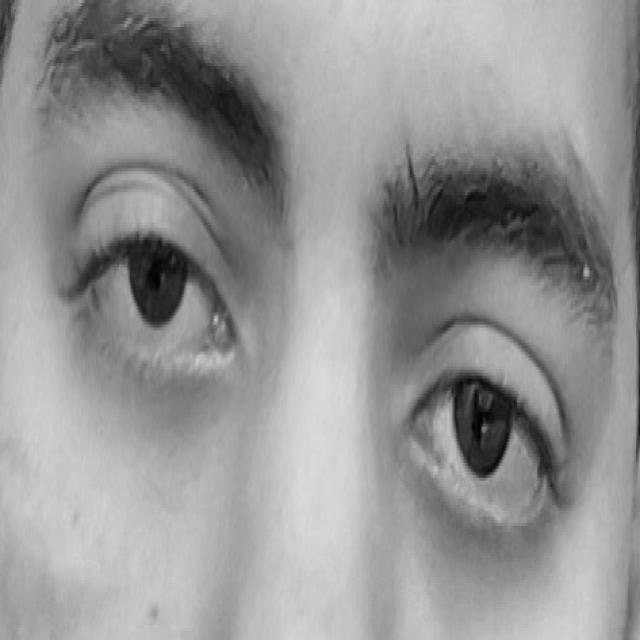real: (42, 42, 598, 570)
